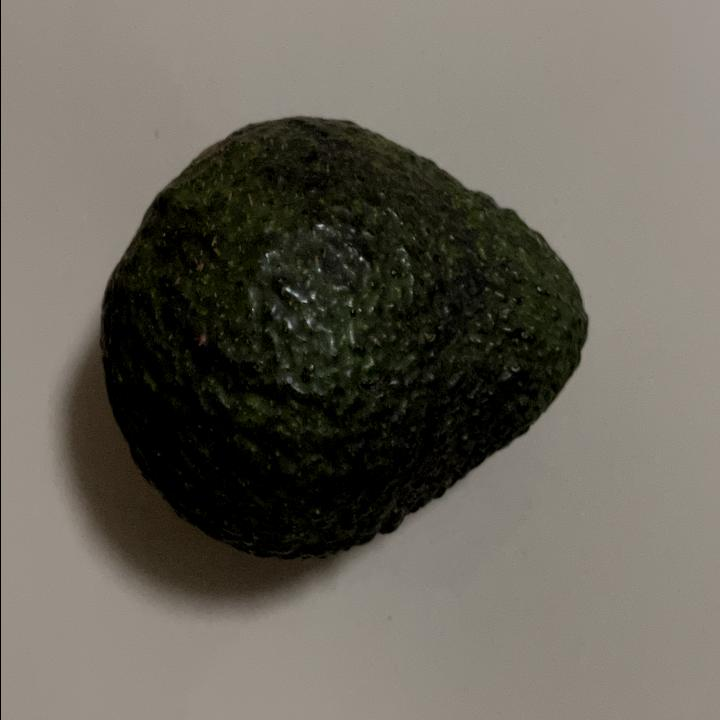Level1: (90, 103, 598, 572)
